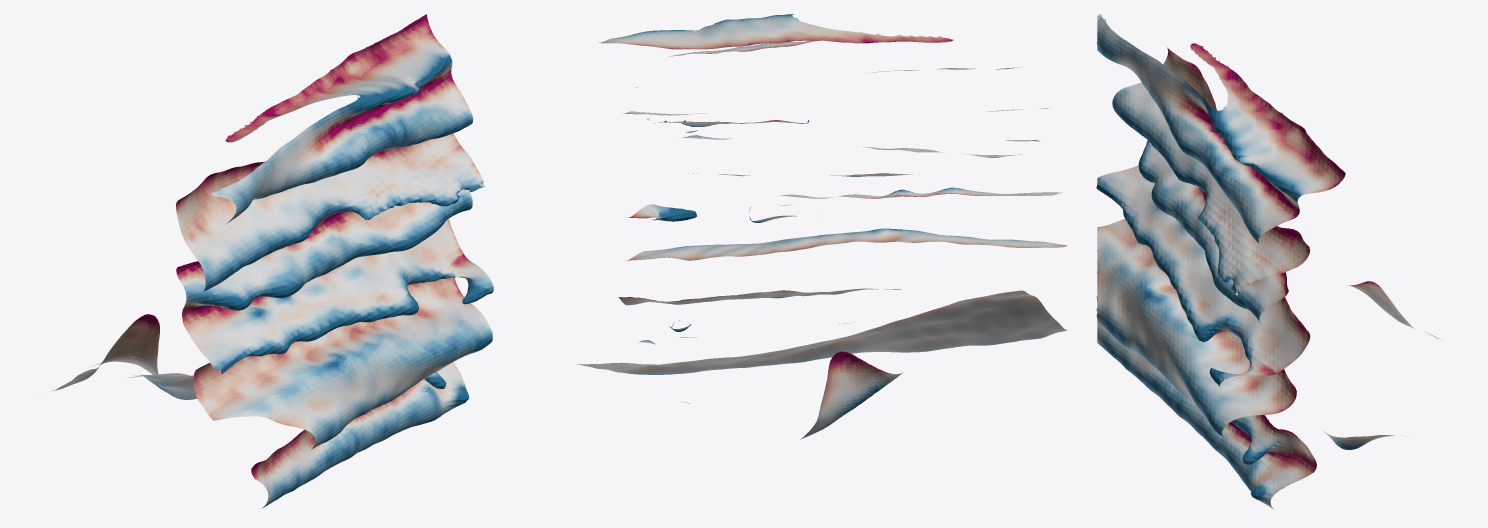
The model's file is crop1152_deviation.glb.
The picture shows the model from 3 angles, left to right: view 1: azimuth 30°, elevation 25°; view 2: azimuth 150°, elevation 25°; view 3: azimuth 270°, elevation 25°; orthographic projection. The views are drawn at different scales.
Parts seen in each view (by area): view 1: world; view 2: world; view 3: world.
Boxes of the visible parts, <box> form: world: <box>51,14,493,508</box>; world: <box>577,14,1067,439</box>; world: <box>1096,14,1444,509</box>.
Bounding box in the file's own units: 1480 × 1479 × 1480.
